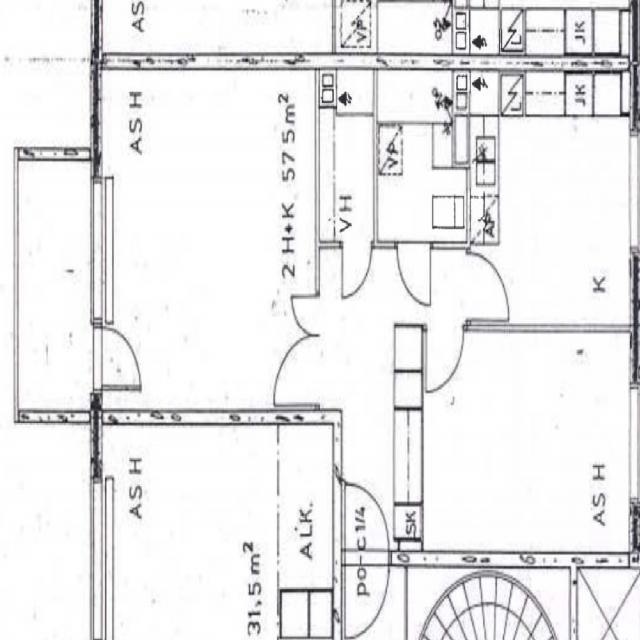door: (345, 480, 389, 566), (345, 553, 389, 639), (273, 334, 319, 405), (90, 328, 138, 389), (397, 241, 430, 302), (343, 241, 371, 294)
